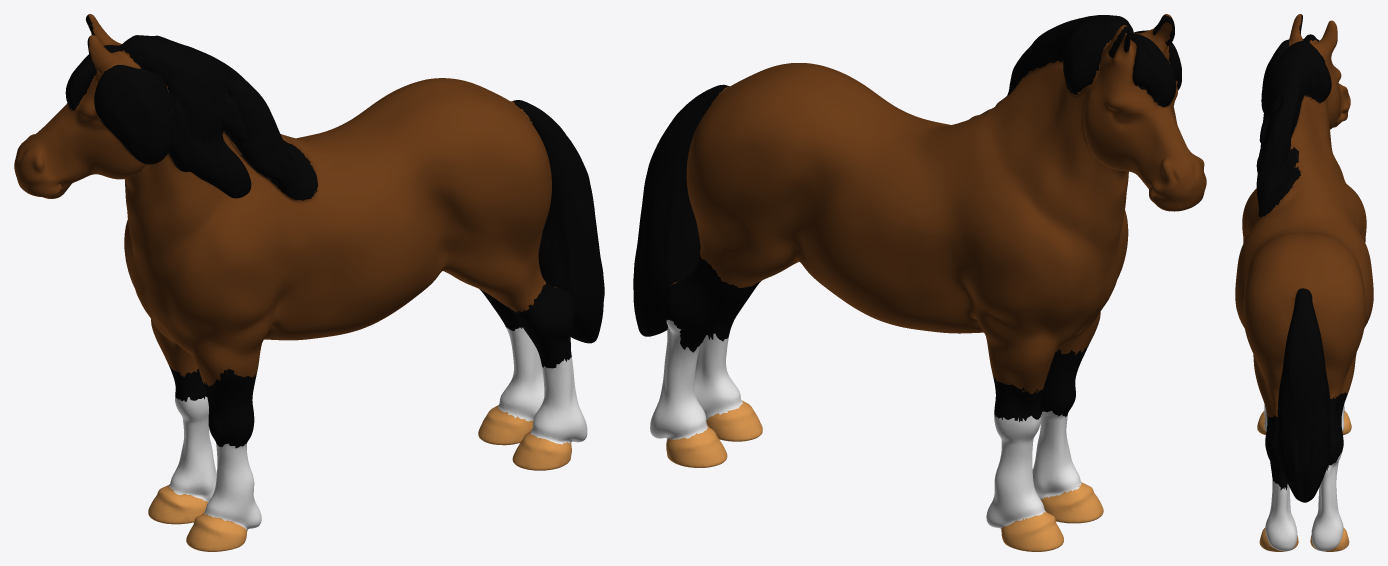
Rendered from WelshCob_SectionC.glb.
The picture shows the model from 3 angles, left to right: view 1: azimuth 30°, elevation 25°; view 2: azimuth 150°, elevation 25°; view 3: azimuth 270°, elevation 25°; orthographic projection. The views are drawn at different scales.
Parts seen in each view (by area): view 1: Horse; view 2: Horse; view 3: Horse.
Boxes of the visible parts, x1,y1,x2,y2 form: Horse: (14,14,604,551); Horse: (633,14,1206,551); Horse: (1235,14,1373,551).
Size of the model in its own units: 2.58 by 2.29 by 0.7623.
